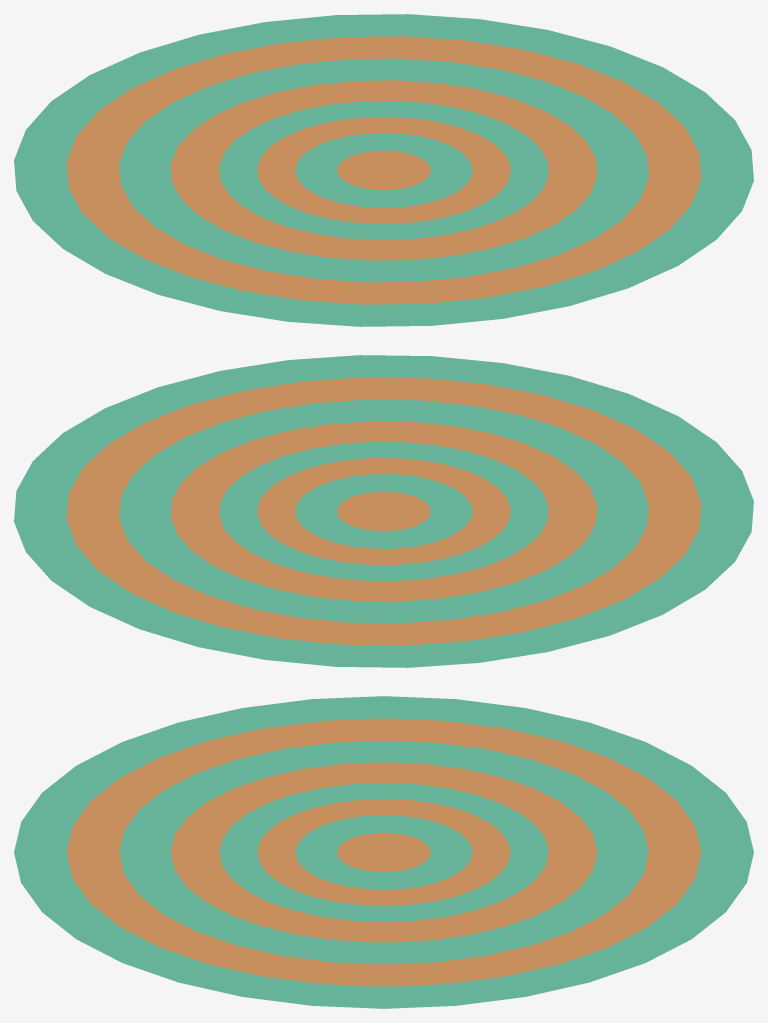
File: rug_stripedround_orangegreen.fbx
3 renders of one model, top to bottom at view 1: azimuth 30°, elevation 25°; view 2: azimuth 150°, elevation 25°; view 3: azimuth 270°, elevation 25°, orthographic.
Parts seen in each view (by area): view 1: Circle; view 2: Circle; view 3: Circle.
Part boxes in pixels (x1,y1,x2,y2): Circle: (14,14,753,326); Circle: (14,355,753,667); Circle: (14,696,753,1008).
Bounding box in the file's own units: 686 × 0.000112 × 686.
